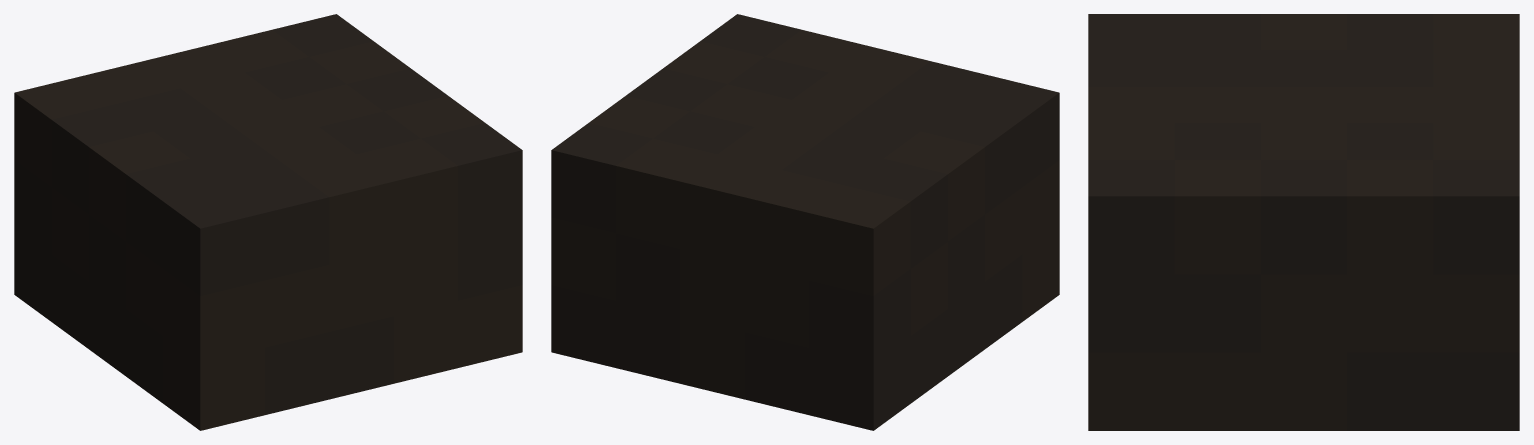
Rendered from tavern-74-floor_cornerwood.obj.
The picture shows the model from 3 angles, left to right: view 1: azimuth 30°, elevation 25°; view 2: azimuth 150°, elevation 25°; view 3: azimuth 270°, elevation 25°; orthographic projection. The views are drawn at different scales.
Parts seen in each view (by area): view 1: floor_cornerwood; view 2: floor_cornerwood; view 3: floor_cornerwood.
Boxes of the visible parts, x1,y1,x2,y2 form: floor_cornerwood: (14, 14, 522, 430); floor_cornerwood: (551, 14, 1059, 430); floor_cornerwood: (1088, 14, 1519, 430).
Size of the model in its own units: 0.5 by 0.3 by 0.5.
1 material, 1 textured.
